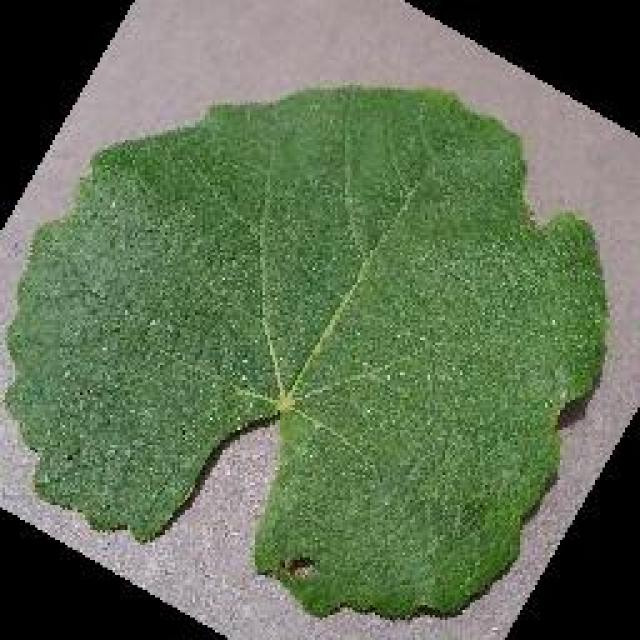Grape___healthy: (0, 81, 612, 624)
